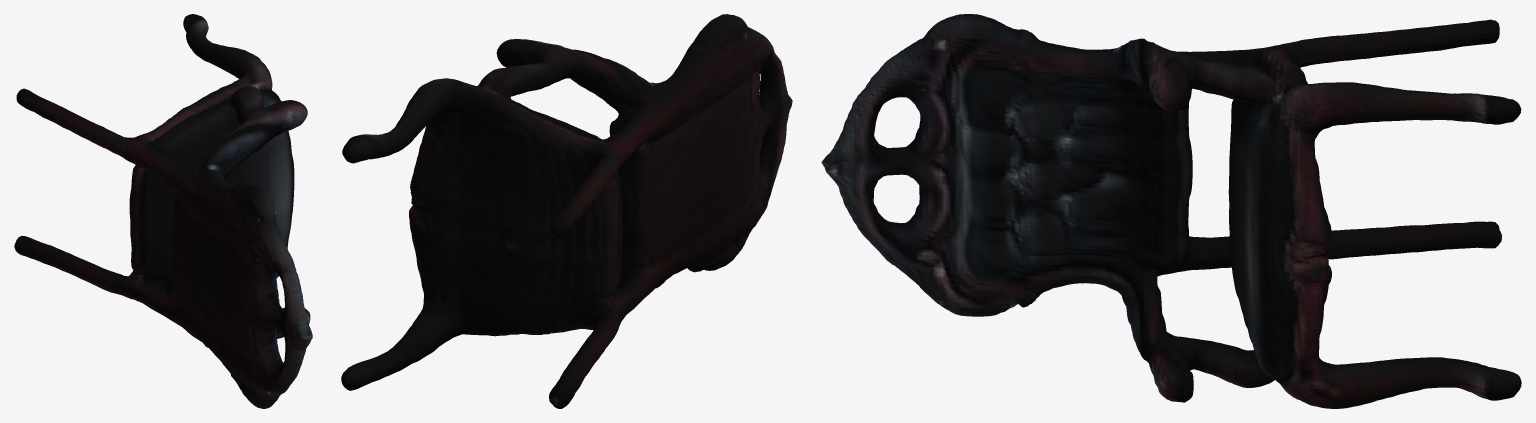
File: gothicchair,frontview1716873090.obj
3 renders of one model, left to right at view 1: azimuth 30°, elevation 25°; view 2: azimuth 150°, elevation 25°; view 3: azimuth 270°, elevation 25°, orthographic. The views are drawn at different scales.
Size of the model in its own units: 0.4896 by 0.5405 by 1.06.
